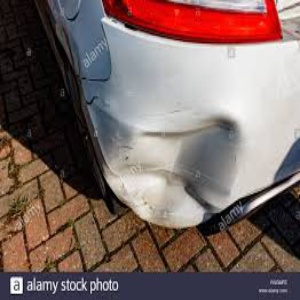bumper: (108, 95, 240, 226)
